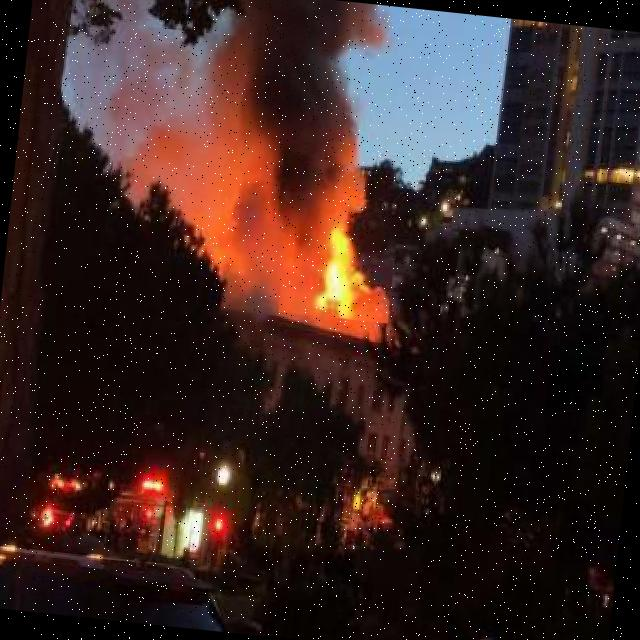fire: (106, 24, 294, 245), (278, 191, 400, 323)
